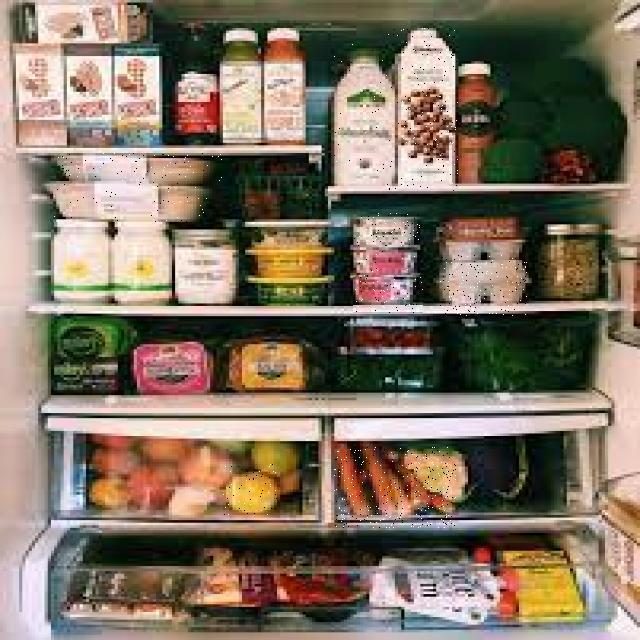carrots: (334, 446, 456, 528)
cheese: (354, 276, 424, 314), (354, 212, 420, 247), (354, 247, 420, 273)
eggs: (440, 255, 528, 316)
lemon: (223, 464, 277, 515)
meat: (48, 173, 220, 222), (57, 153, 226, 186)
milk: (386, 28, 458, 191), (332, 44, 404, 178)
